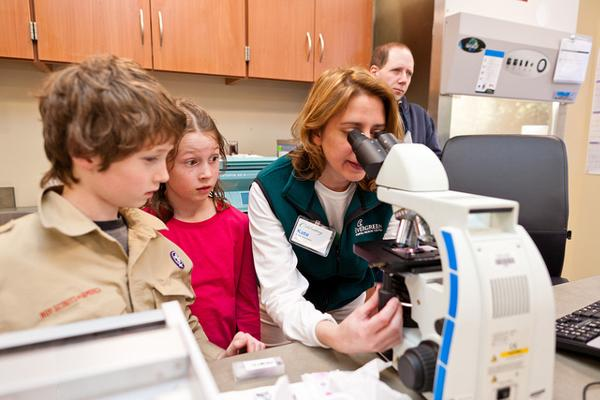person: (248, 69, 405, 357)
